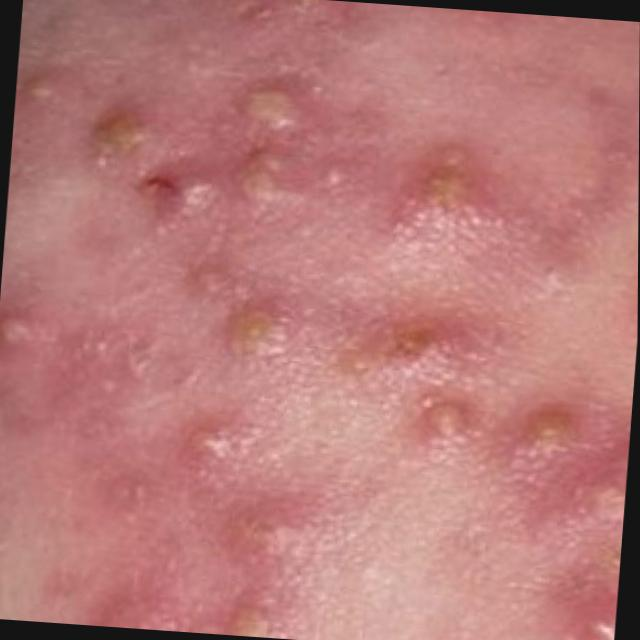pustule: (10, 0, 616, 634), (0, 284, 69, 363)
